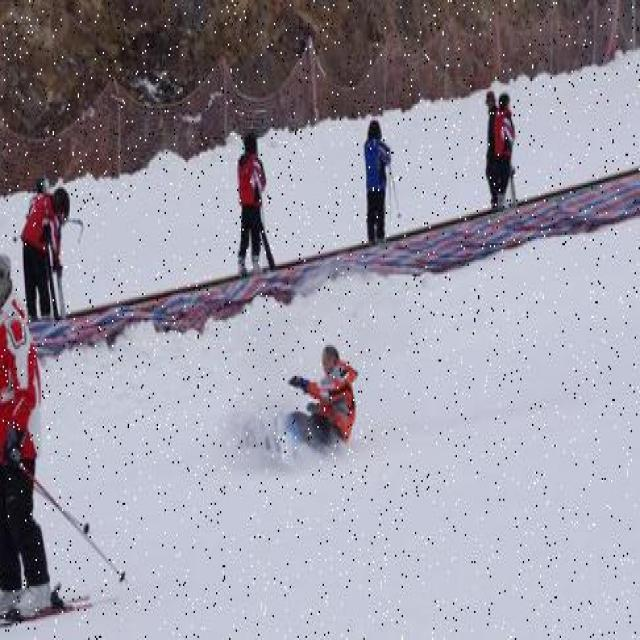fall: (252, 334, 361, 476)
